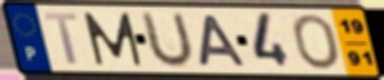4: (251, 11, 297, 73)
A: (196, 13, 249, 68)
M: (80, 10, 145, 67)
O: (289, 12, 343, 72)
T: (41, 11, 80, 67)
U: (140, 9, 196, 70)
